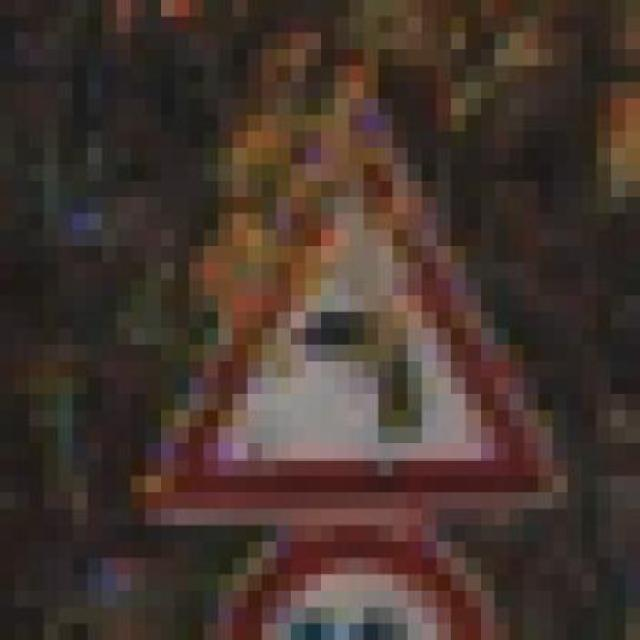Dangerous Left Curve Ahead: (130, 114, 582, 526)
